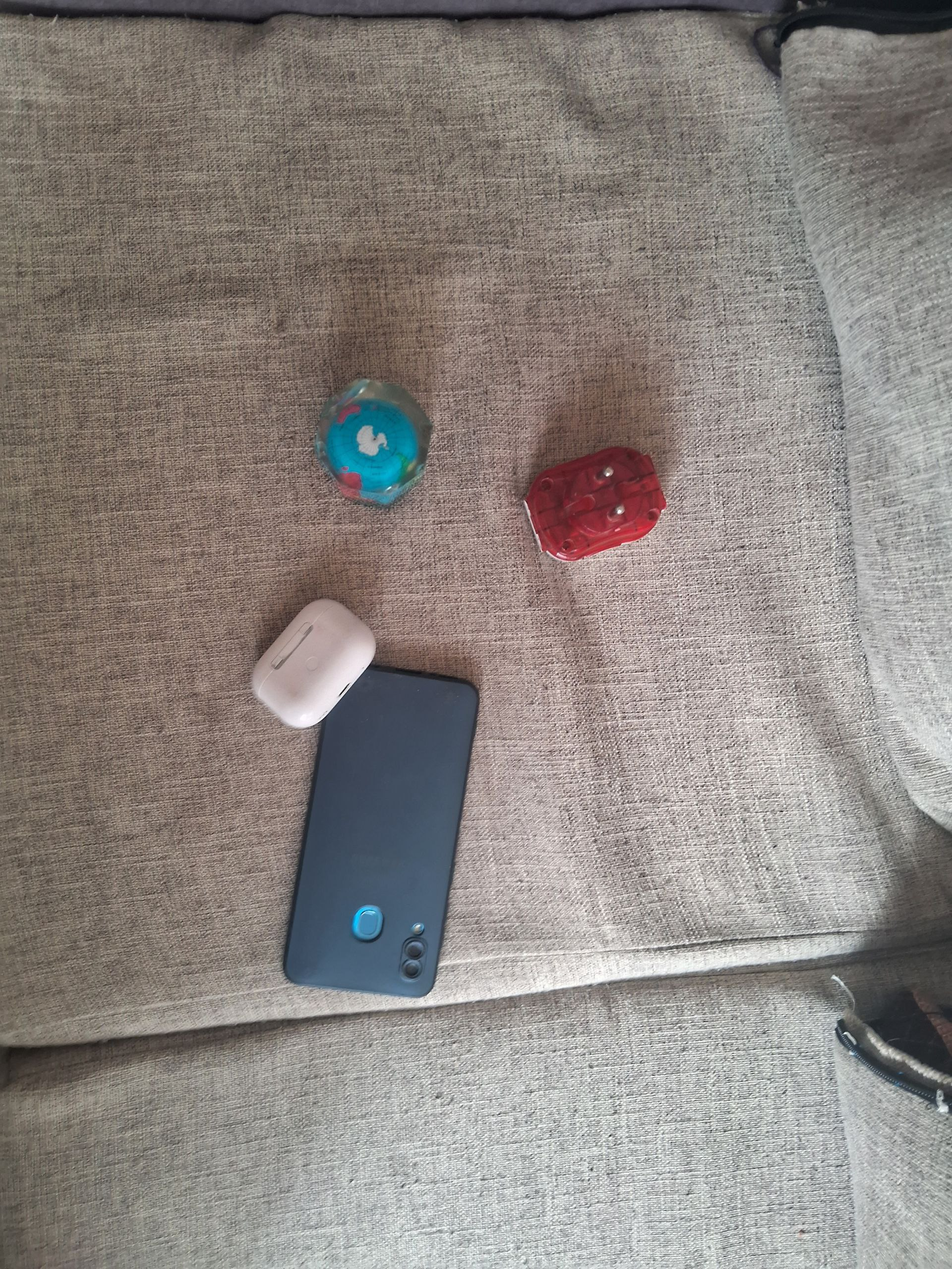Air_pod: (248, 595, 378, 734)
Multi_adapter: (517, 444, 668, 565)
Smart_phone: (281, 665, 483, 1003)
world_globe: (309, 375, 436, 510)
